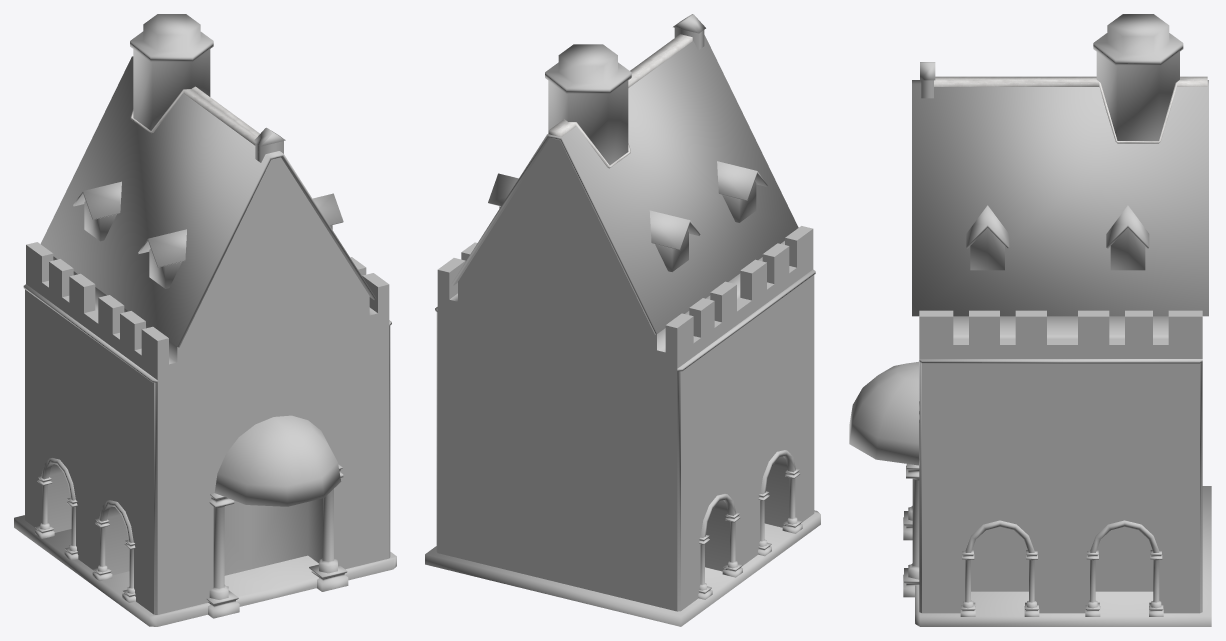
The model's file is OBJ_house_002.fbx.
3 renders of one model, left to right at view 1: azimuth 30°, elevation 25°; view 2: azimuth 150°, elevation 25°; view 3: azimuth 270°, elevation 25°, orthographic. The views are drawn at different scales.
Visible parts, largest first — view 1: polySurface108; view 2: polySurface108; view 3: polySurface108.
Boxes of the visible parts, x1,y1,x2,y2 form: polySurface108: [14, 14, 396, 626]; polySurface108: [425, 14, 820, 626]; polySurface108: [849, 14, 1211, 626].
Size of the model in its own units: 20.01 by 37.99 by 23.25.
